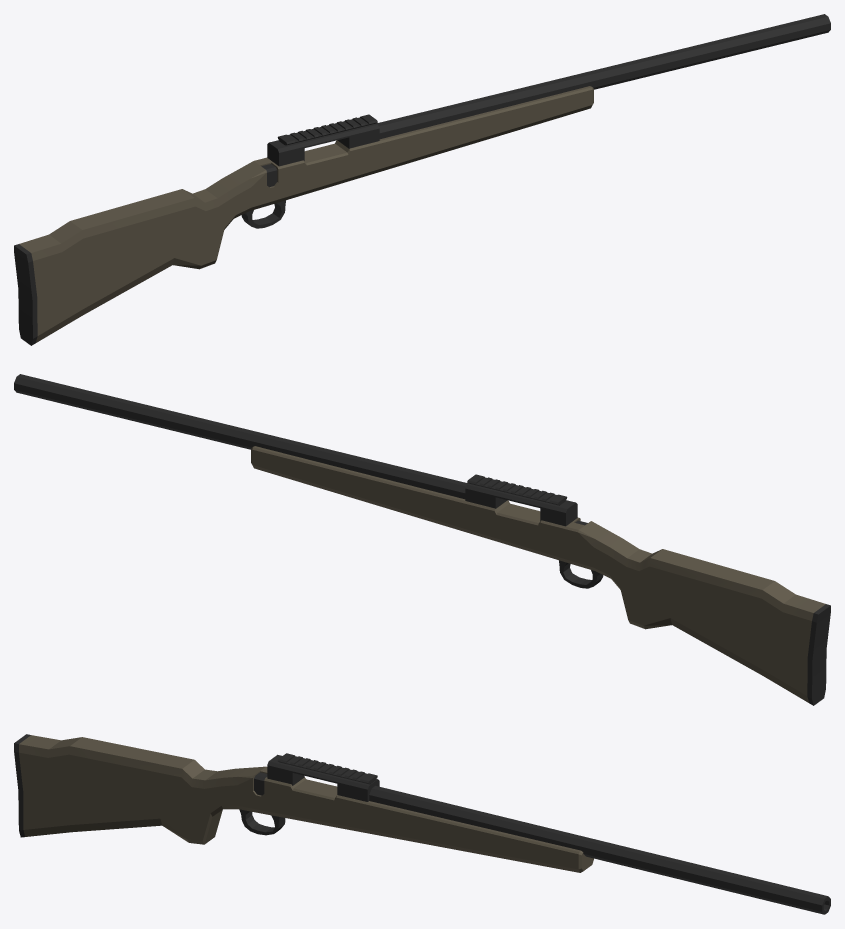
The model's file is SniperRifle3_02.fbx.
The picture shows the model from 3 angles, top to bottom: view 1: azimuth 30°, elevation 25°; view 2: azimuth 150°, elevation 25°; view 3: azimuth 330°, elevation 25°; orthographic projection.
Visible parts, largest first — view 1: SniperRifle3_02; view 2: SniperRifle3_02; view 3: SniperRifle3_02.
Part boxes in pixels (bbox=[...]): SniperRifle3_02: bbox=[14, 14, 830, 345]; SniperRifle3_02: bbox=[14, 374, 830, 705]; SniperRifle3_02: bbox=[14, 734, 830, 914].
Size of the model in its own units: 1.22 by 0.2029 by 0.0371.
